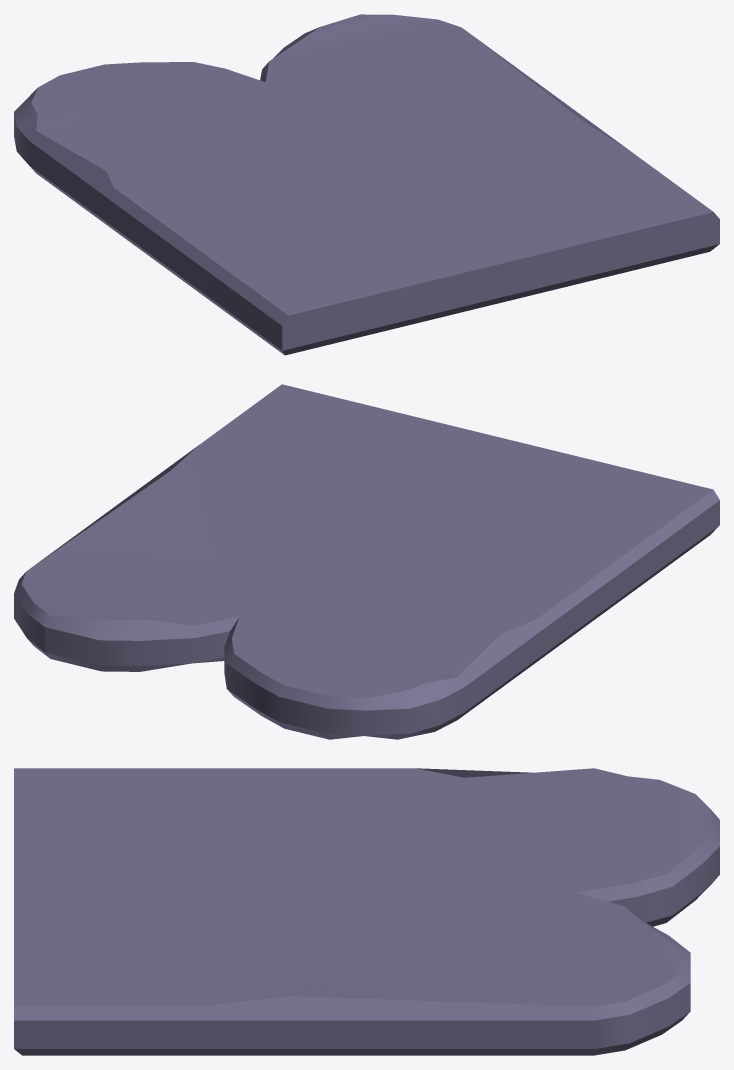
Rendered from SM_Toast.fbx.
3 renders of one model, top to bottom at view 1: azimuth 30°, elevation 25°; view 2: azimuth 150°, elevation 25°; view 3: azimuth 270°, elevation 25°, orthographic. The views are drawn at different scales.
Visible parts, largest first — view 1: SM_Toast; view 2: SM_Toast; view 3: SM_Toast.
Part boxes in pixels (<box>): SM_Toast: <box>14,14,719,355</box>; SM_Toast: <box>14,384,719,739</box>; SM_Toast: <box>14,768,719,1055</box>.
Bounding box in the file's own units: 14.4 × 1.48 × 17.49.
